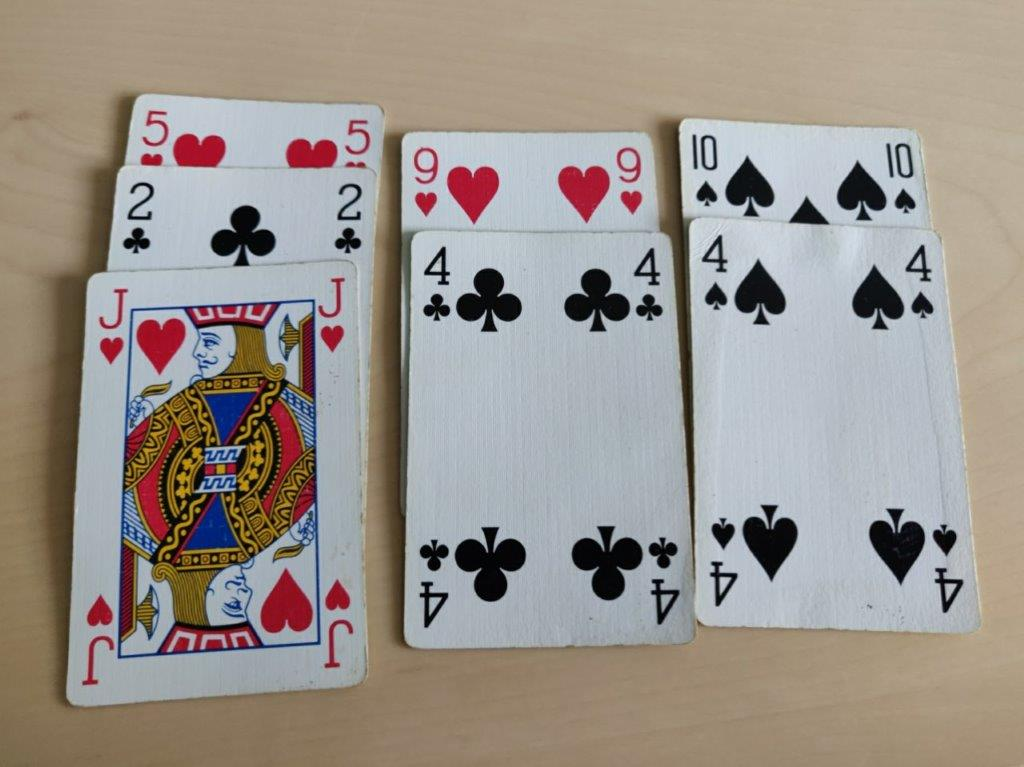10S: (689, 124, 727, 211), (883, 132, 921, 219)
2C: (326, 178, 372, 258), (114, 175, 160, 255)
4C: (418, 238, 456, 325), (629, 243, 667, 330)
4S: (692, 231, 732, 315), (899, 244, 939, 328)
5H: (136, 103, 172, 168), (339, 110, 373, 168)
9H: (409, 136, 443, 222), (615, 139, 649, 225)
JH: (92, 281, 130, 370), (313, 273, 351, 362)
